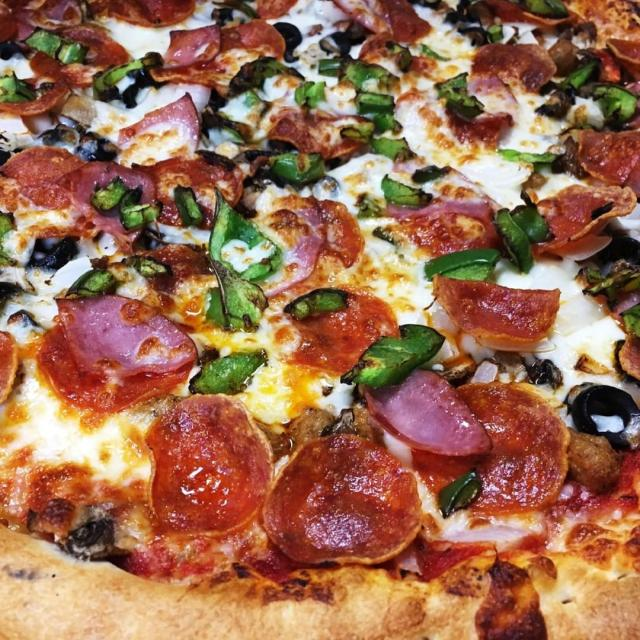black_olives: (573, 379, 640, 449)
mushrooms: (6, 255, 91, 345), (63, 508, 125, 558), (198, 109, 252, 150), (440, 345, 484, 386), (328, 24, 360, 59), (244, 142, 268, 185), (537, 82, 572, 111)
pepperoni: (262, 435, 422, 570), (142, 394, 272, 544), (415, 385, 567, 512), (41, 310, 193, 409), (425, 271, 559, 356), (147, 15, 276, 90), (285, 283, 392, 370), (132, 150, 238, 234), (521, 176, 633, 255), (398, 92, 505, 162), (391, 207, 486, 274), (3, 144, 83, 213), (38, 27, 121, 92), (306, 190, 366, 276), (567, 124, 634, 184), (474, 44, 547, 98), (1, 71, 64, 117)
peppers: (203, 190, 284, 334), (348, 318, 448, 388), (352, 88, 418, 162), (558, 63, 636, 123), (190, 344, 270, 400), (86, 168, 160, 226), (497, 200, 558, 268), (283, 274, 356, 325), (423, 248, 499, 290), (318, 50, 392, 86), (275, 146, 332, 190), (28, 27, 86, 67), (69, 262, 132, 294), (93, 54, 138, 97), (380, 175, 430, 213), (170, 180, 206, 228), (2, 63, 38, 108), (507, 2, 572, 20), (295, 77, 331, 109)
